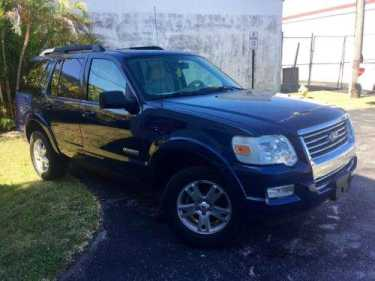Ford Explorer: (13, 42, 360, 253)
